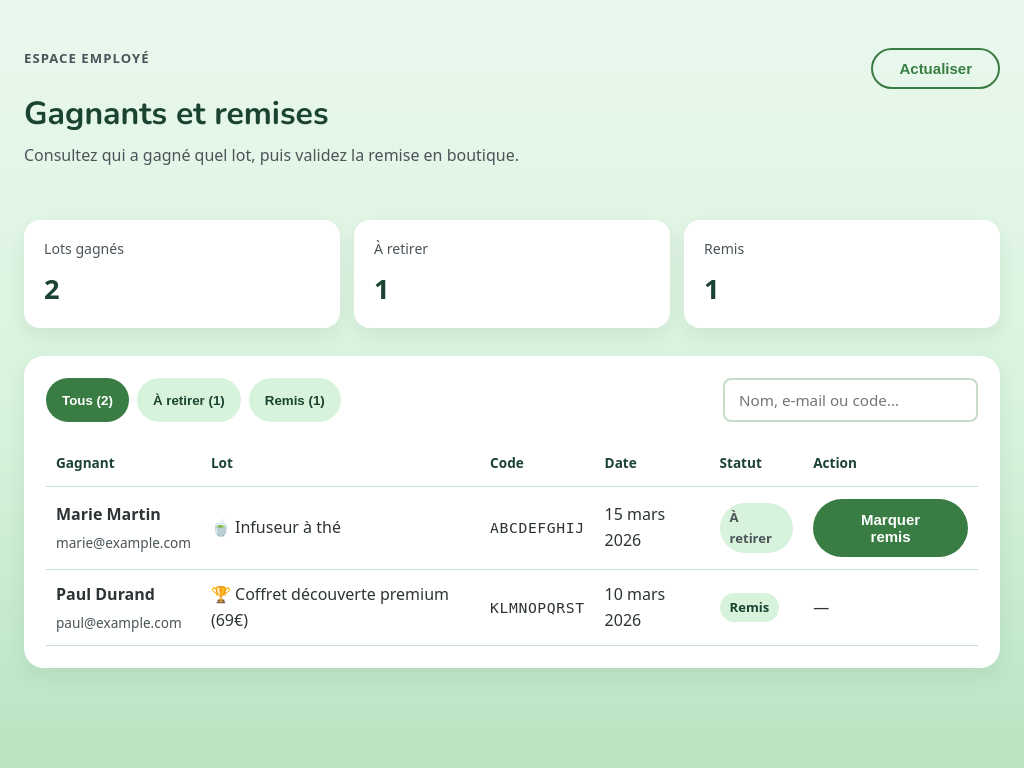
Test: Employe › filtre par nom et marque un lot comme remis
expect the heading "Gagnants et remises" is shown: met, box [24, 92, 329, 135]
Type "marie" into the search field named "rechercher un gagnant". click: (850,400)
box: [723, 378, 978, 422]
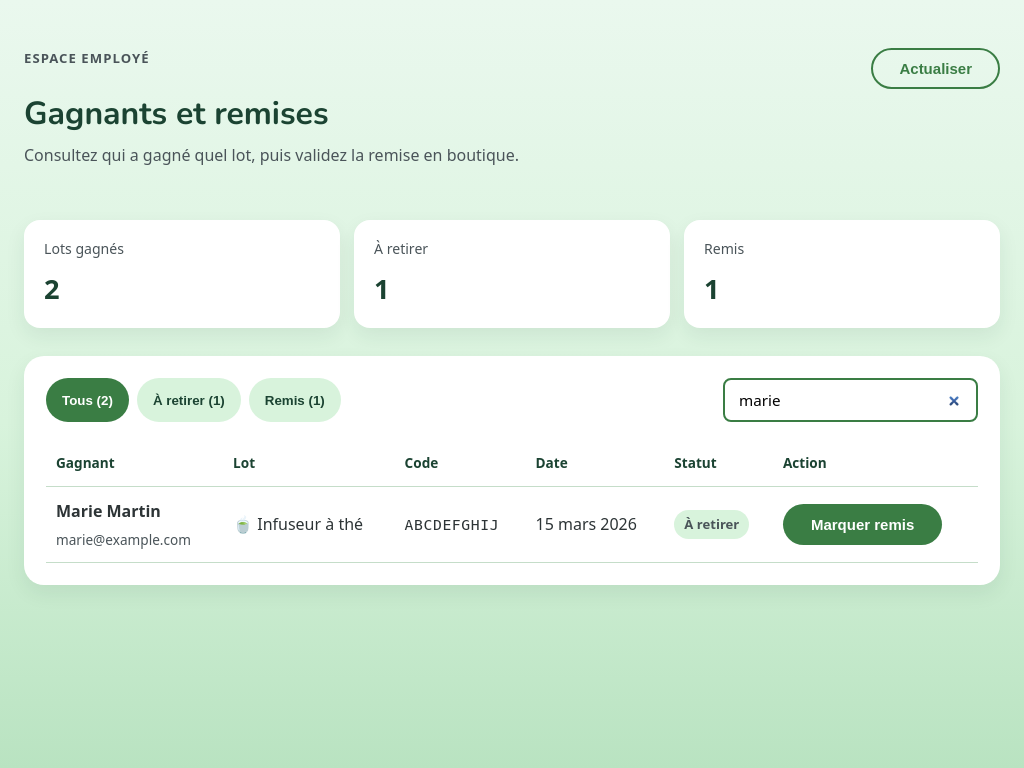
expect the text "Marie Martin" is shown: met, box [56, 500, 161, 522]
expect the text "Paul Durand" is gone: met
Clear the search field named "rechercher un gagnant". click: (850,400)
box: [723, 378, 978, 422]
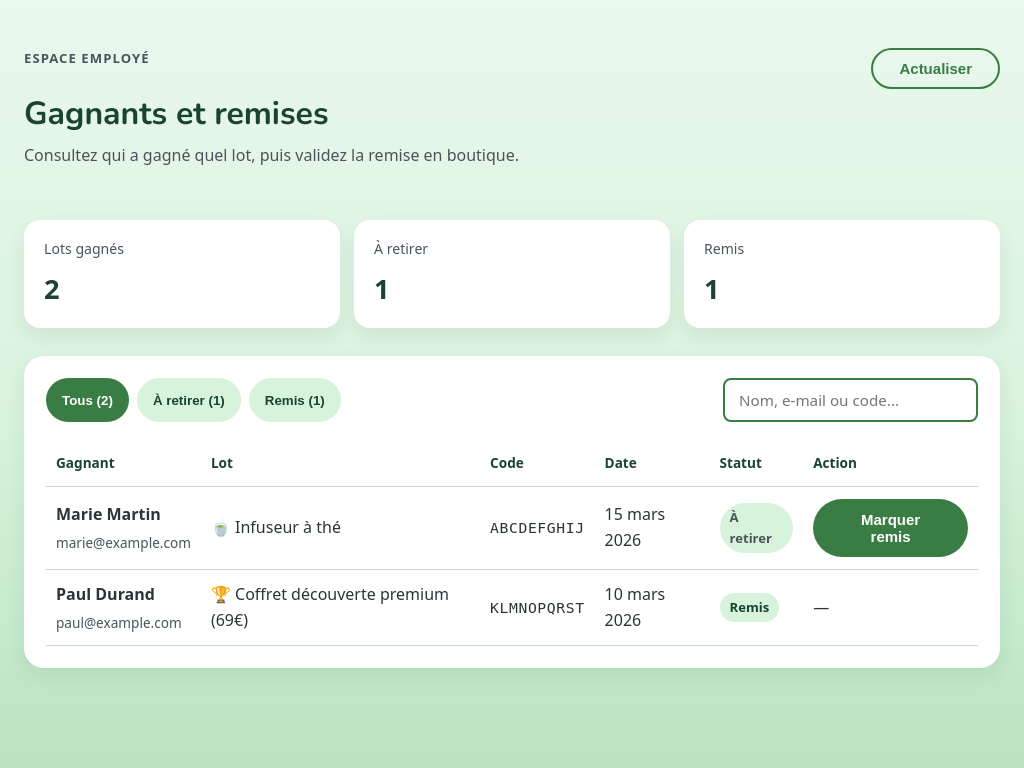
Click the button "Marquer remis". click: (891,528)
box: [813, 499, 968, 557]
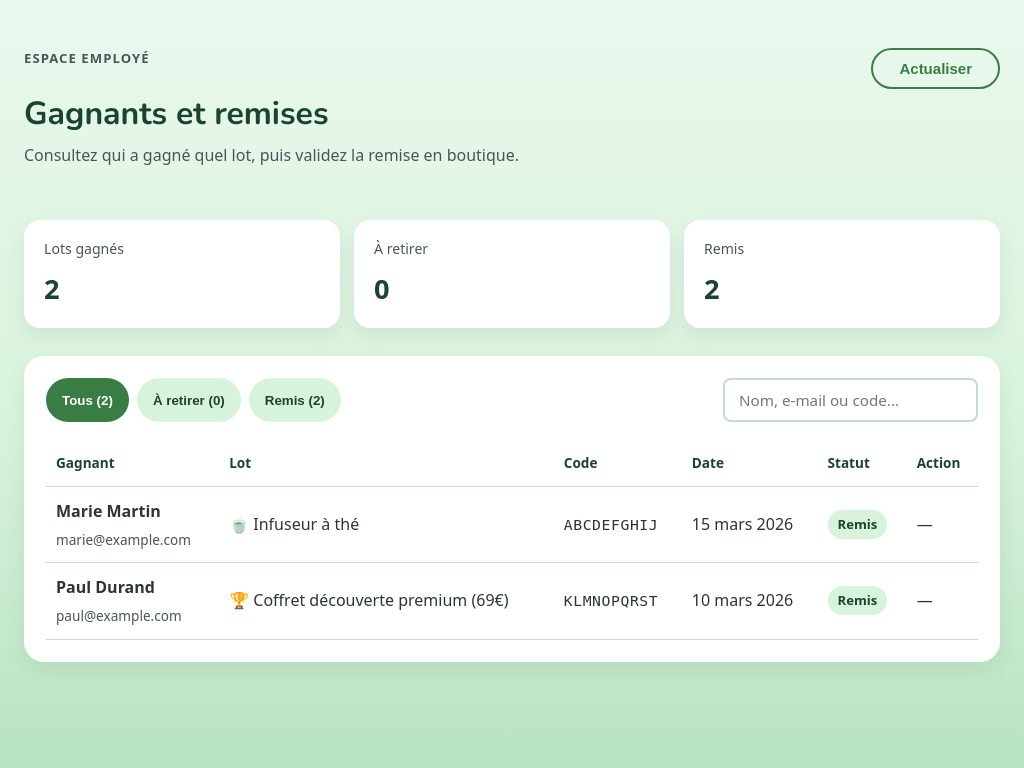
expect the button "Marquer remis" is gone: met
